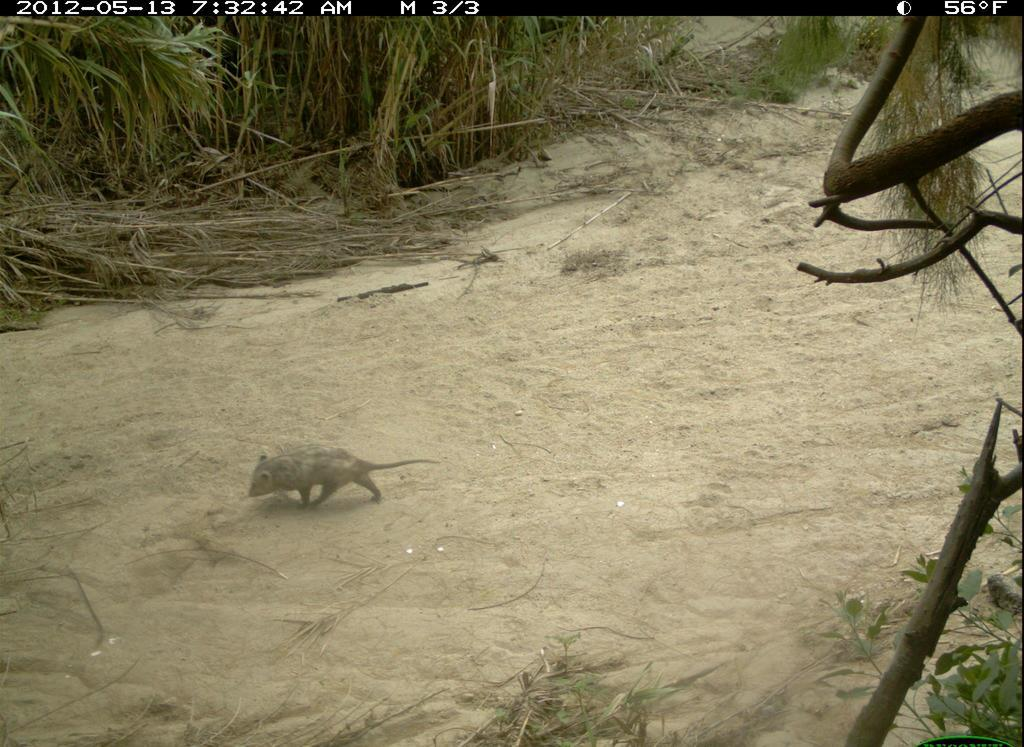opossum: (245, 441, 445, 524)
